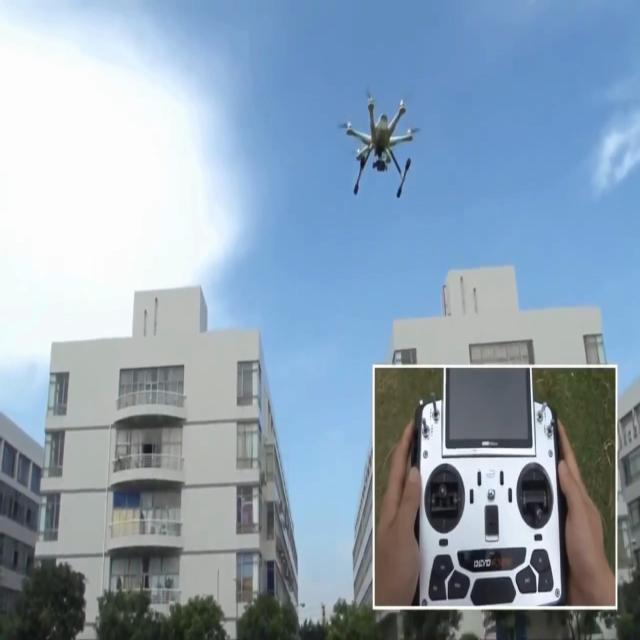drone: (338, 86, 420, 198)
